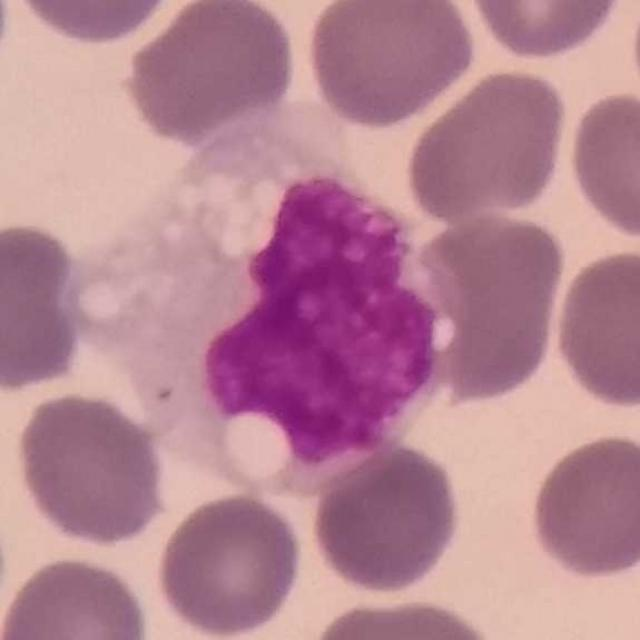Monocyte: (71, 100, 453, 491)
RBC: (408, 206, 570, 405), (403, 64, 571, 225), (10, 387, 171, 550), (122, 0, 300, 146), (307, 438, 464, 598), (152, 489, 307, 640), (302, 0, 479, 130), (525, 429, 640, 583), (0, 218, 88, 394), (550, 245, 640, 414), (0, 552, 154, 640), (564, 87, 640, 245), (463, 0, 631, 62), (306, 592, 502, 640), (7, 0, 181, 48)
